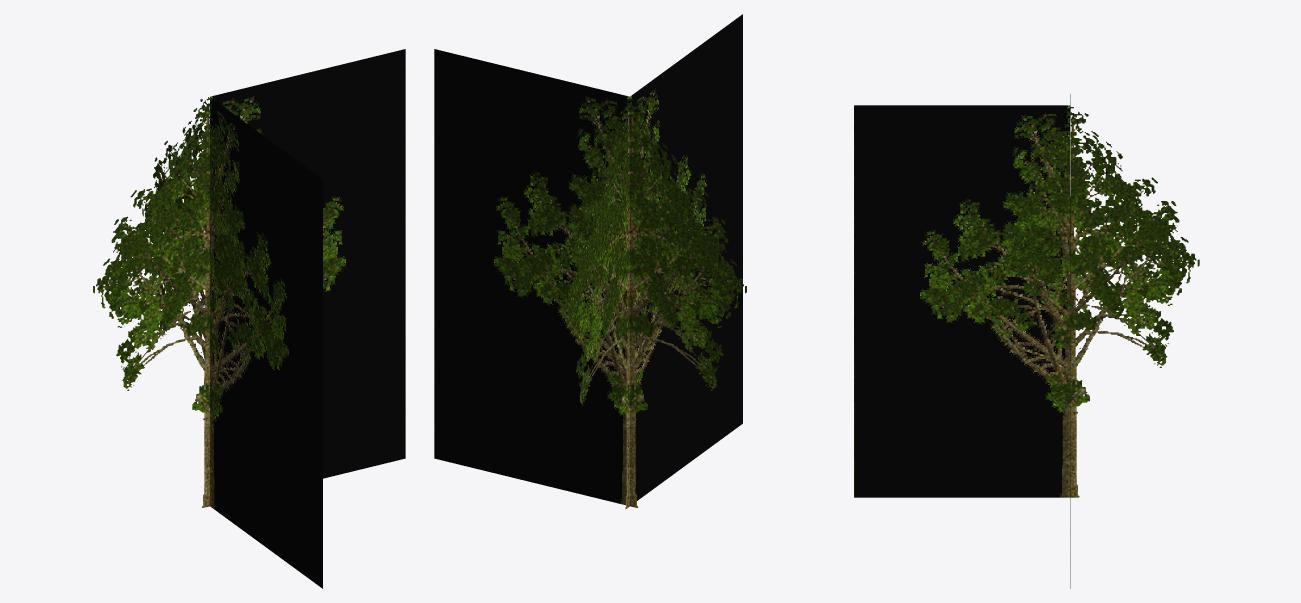
Rendered from arbre.obj.
3 views of the same model, side by side, from view 1: azimuth 30°, elevation 25°; view 2: azimuth 150°, elevation 25°; view 3: azimuth 270°, elevation 25° (orthographic). The views are drawn at different scales.
Parts seen in each view (by area): view 1: none_arbre1.003, none_arbre2.003; view 2: none_arbre1.003, none_arbre2.003; view 3: none_arbre1.003, none_arbre2.003.
Part boxes in pixels (box(x1,y1,x2,y2)): none_arbre1.003: box(210, 49, 405, 588); none_arbre2.003: box(93, 97, 209, 507); none_arbre1.003: box(434, 14, 742, 505); none_arbre2.003: box(562, 98, 746, 509); none_arbre1.003: box(854, 105, 1070, 588); none_arbre2.003: box(1070, 94, 1199, 497).
Bounding box in the file's own units: 8 × 8 × 8.
2 materials, 2 textured.
